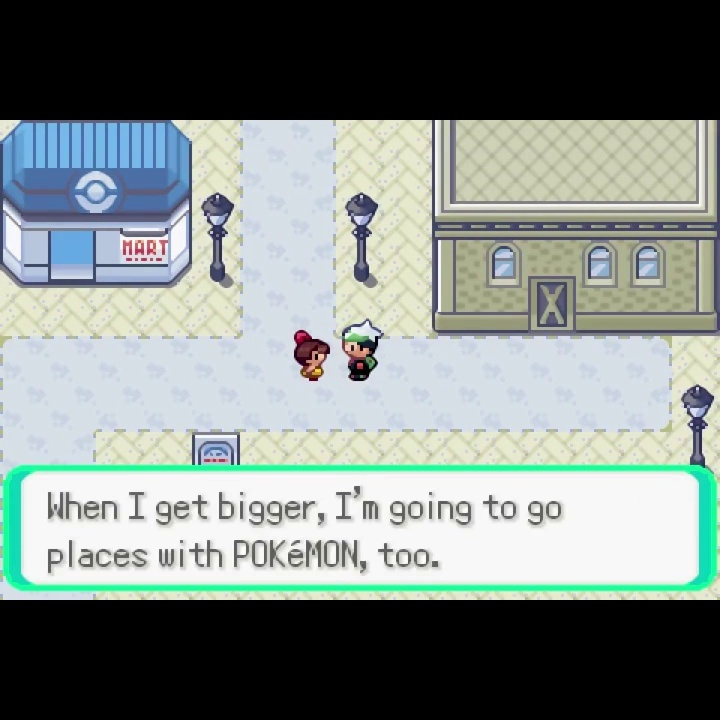agent: (338, 315, 386, 384)
house: (428, 118, 720, 336)
npc: (287, 330, 331, 385)
pokemart: (1, 120, 194, 290)
